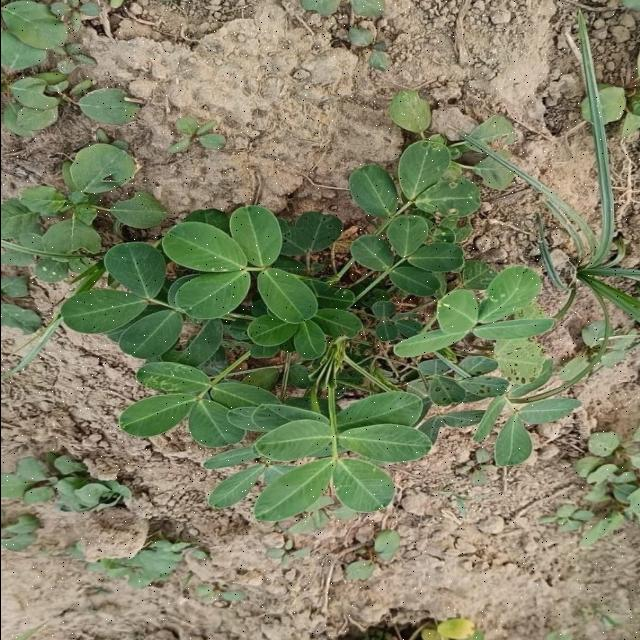plant: (1, 91, 588, 526)
